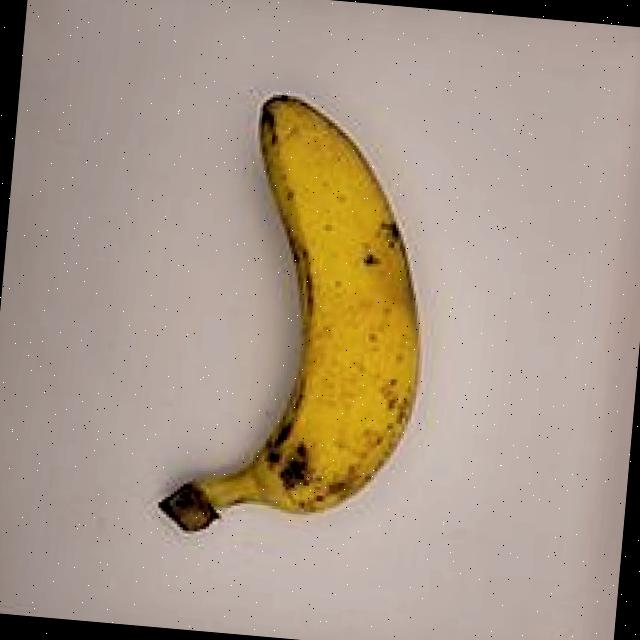Overripe: (130, 68, 460, 570)
